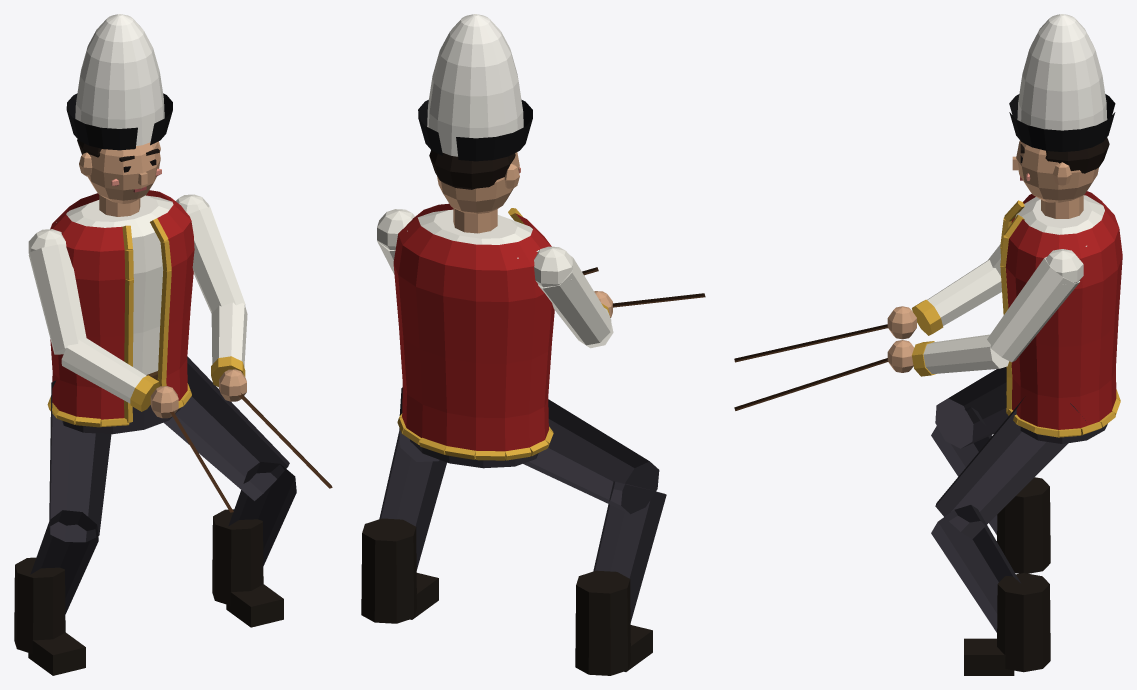
Rendered from Rider_Red.obj.
3 views of the same model, side by side, from view 1: azimuth 30°, elevation 25°; view 2: azimuth 150°, elevation 25°; view 3: azimuth 270°, elevation 25° (orthographic). The views are drawn at different scales.
Parts seen in each view (by area): view 1: Rider_Red; view 2: Rider_Red; view 3: Rider_Red.
Boxes of the visible parts, box(x1,y1,x2,y2) form: Rider_Red: box(14, 14, 332, 675); Rider_Red: box(361, 14, 705, 675); Rider_Red: box(734, 14, 1122, 675).
Bounding box in the file's own units: 0.74 × 1.73 × 1.01.
